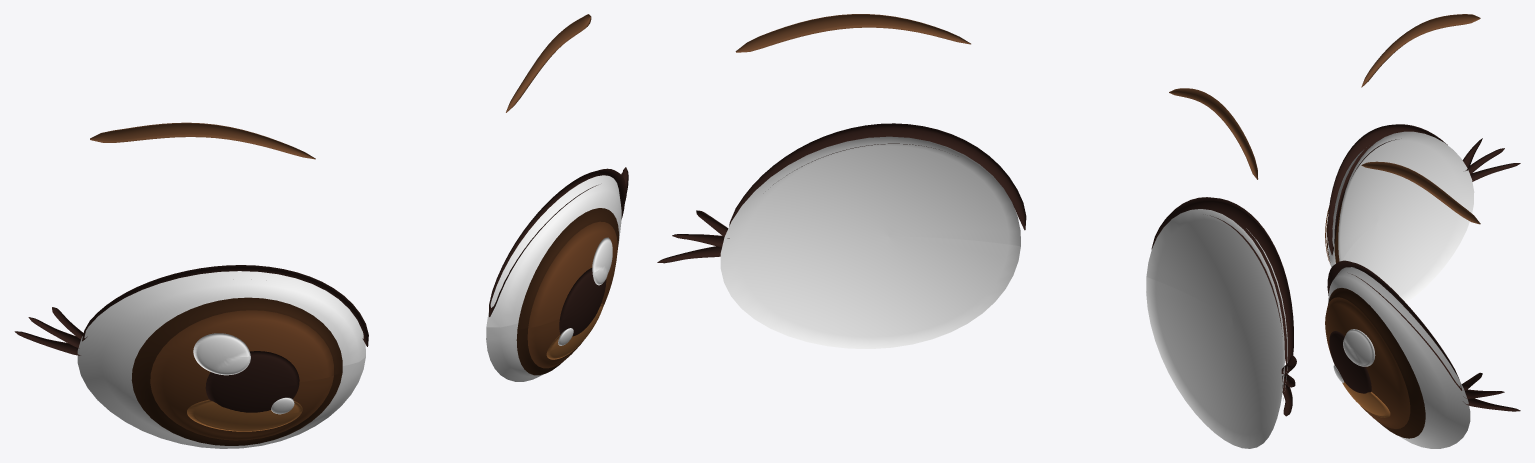
File: eyes-sparkly.glb
3 renders of one model, left to right at view 1: azimuth 30°, elevation 25°; view 2: azimuth 150°, elevation 25°; view 3: azimuth 270°, elevation 25°, orthographic. The views are drawn at different scales.
Visible parts, largest first — view 1: eyeball, iris, eyeballR, irisrim, irisR, brows, pupil, irisrimR, irislight, lid, shine, pupilR (+3 smaller); view 2: eyeballR, eyeball, lidR, brows, lid; view 3: eyeball, eyeballR, irisR, brows, irisrimR, lid, pupilR, lidR, shineR, irislightR, lash2R, lash2 (+3 smaller).
Boxes of the visible parts, box(x1,y1,x2,y2) form: eyeball: box(77, 271, 365, 448); iris: box(150, 310, 333, 440); eyeballR: box(486, 175, 621, 381); irisrim: box(131, 297, 342, 445); irisR: box(527, 221, 617, 368); brows: box(90, 14, 591, 159); pupil: box(205, 351, 299, 412); irisrimR: box(516, 208, 618, 375); irislight: box(187, 399, 302, 431); lid: box(82, 265, 368, 346); shine: box(193, 333, 250, 375); pupilR: box(559, 268, 606, 336); eyeballR: box(720, 136, 1020, 348); eyeball: box(1146, 209, 1288, 448); lidR: box(729, 123, 1026, 230); brows: box(735, 14, 1258, 179); lid: box(1151, 197, 1293, 372); eyeball: box(1328, 131, 1474, 302); eyeballR: box(1328, 267, 1470, 448); irisR: box(1325, 297, 1410, 428); brows: box(1361, 14, 1480, 224); irisrimR: box(1328, 288, 1425, 438); lid: box(1327, 124, 1447, 255); pupilR: box(1329, 331, 1371, 393); lidR: box(1327, 260, 1461, 390); shineR: box(1343, 329, 1375, 366); irislightR: box(1342, 381, 1390, 417); lash2R: box(1463, 396, 1520, 411); lash2: box(1470, 163, 1520, 181).
Size of the model in its own units: 0.7783 by 0.3973 by 0.2597.
